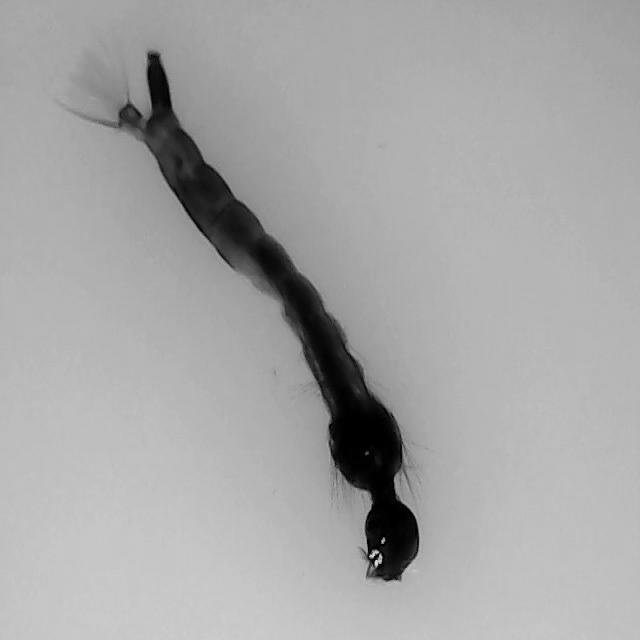larvas: (75, 30, 418, 582)
